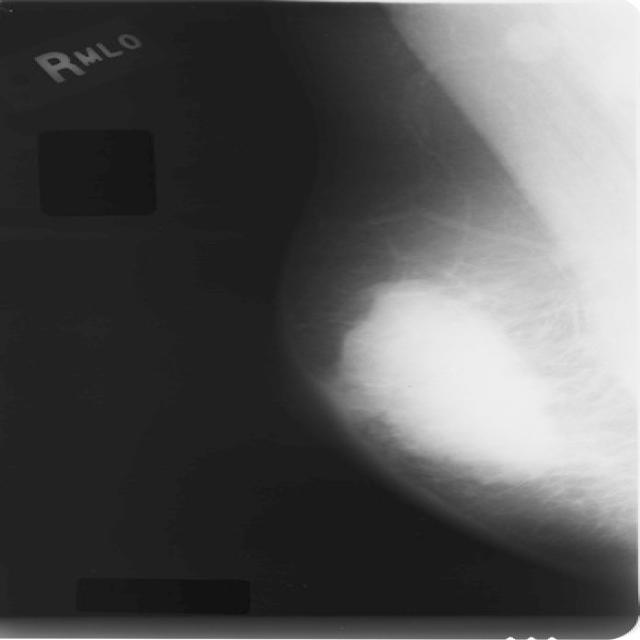tumour: (335, 284, 570, 480)
